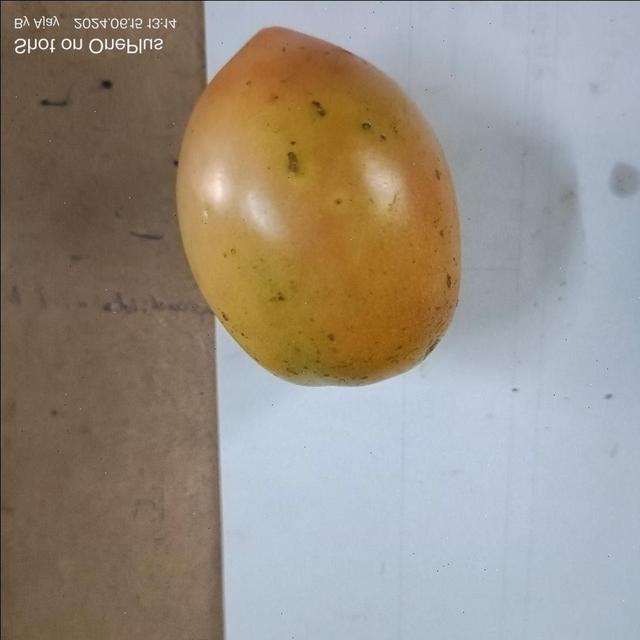Bacterial Spot Fruit: (9, 8, 244, 108)
